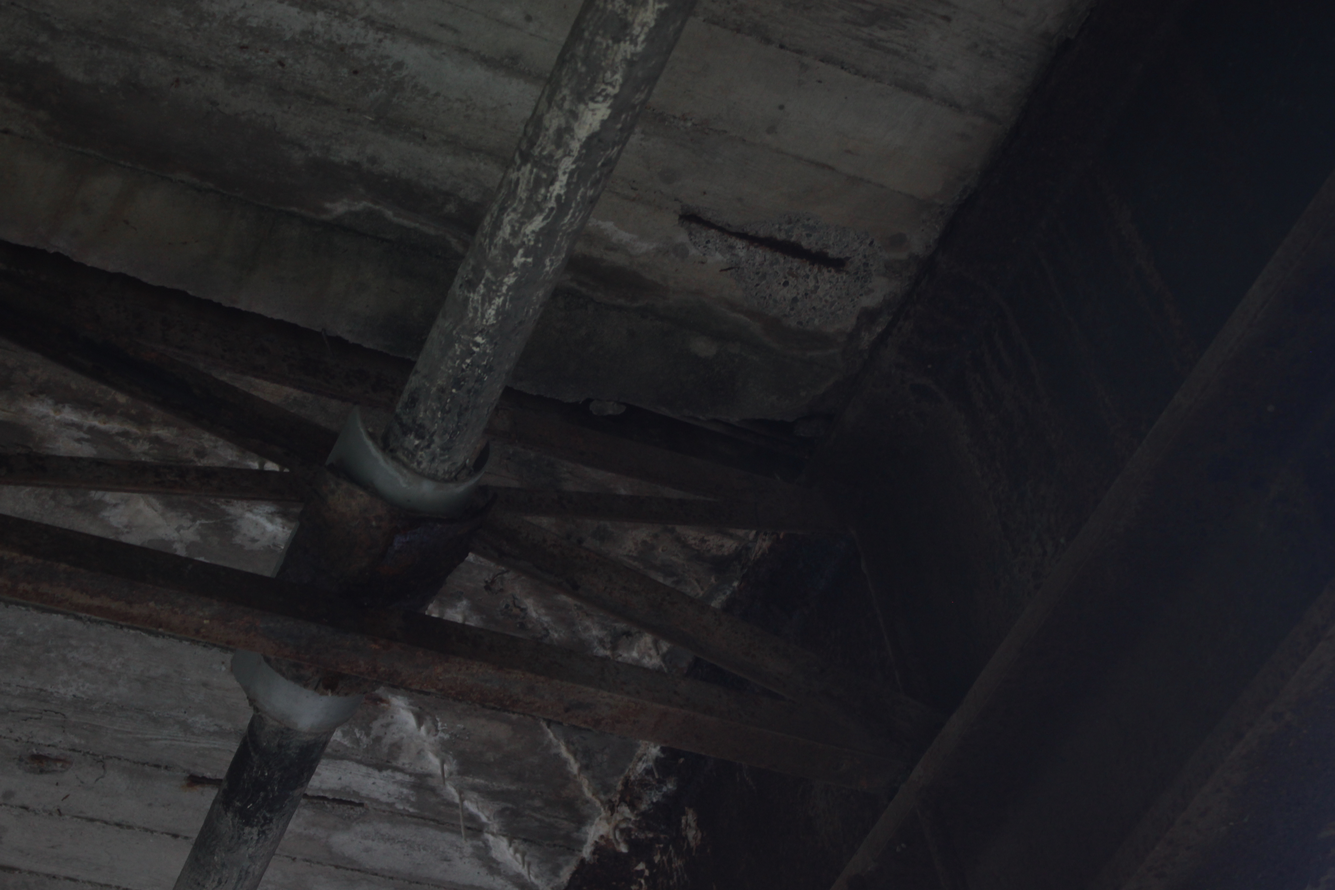Corrosion/Exposed rebar: (677, 194, 871, 321)
Spalling: (669, 181, 883, 335)
